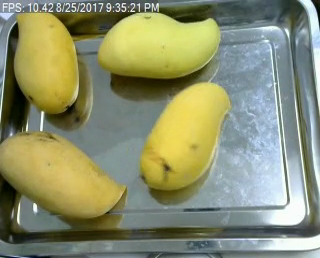Mango: (0, 126, 130, 224), (137, 79, 239, 189), (94, 7, 222, 81), (11, 6, 85, 118)
